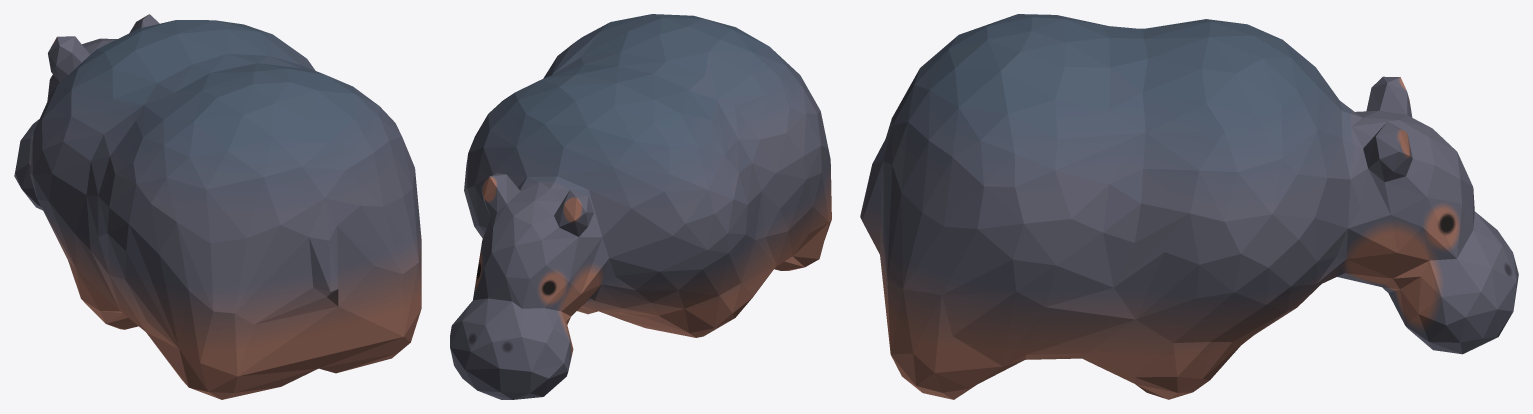
Rendered from animal_hippo_blob.obj.
3 views of the same model, side by side, from view 1: azimuth 30°, elevation 25°; view 2: azimuth 150°, elevation 25°; view 3: azimuth 270°, elevation 25° (orthographic). The views are drawn at different scales.
Visible parts, largest first — view 1: animal_hippo_blob; view 2: animal_hippo_blob; view 3: animal_hippo_blob.
Part boxes in pixels (<box>): animal_hippo_blob: <box>14,14,421,399</box>; animal_hippo_blob: <box>450,14,831,399</box>; animal_hippo_blob: <box>860,14,1518,399</box>.
Size of the model in its own units: 1.19 by 1.07 by 2.02.
